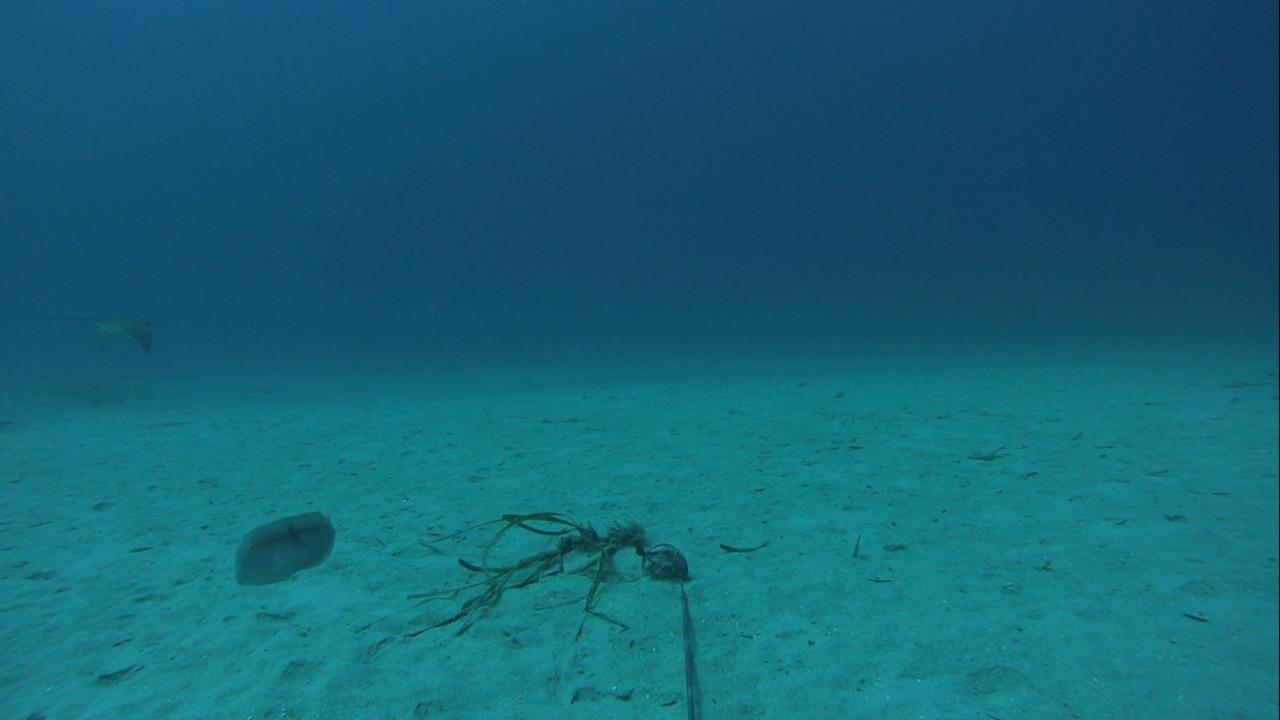myliobatis: (3, 290, 170, 360)
raor: (231, 506, 338, 592)
